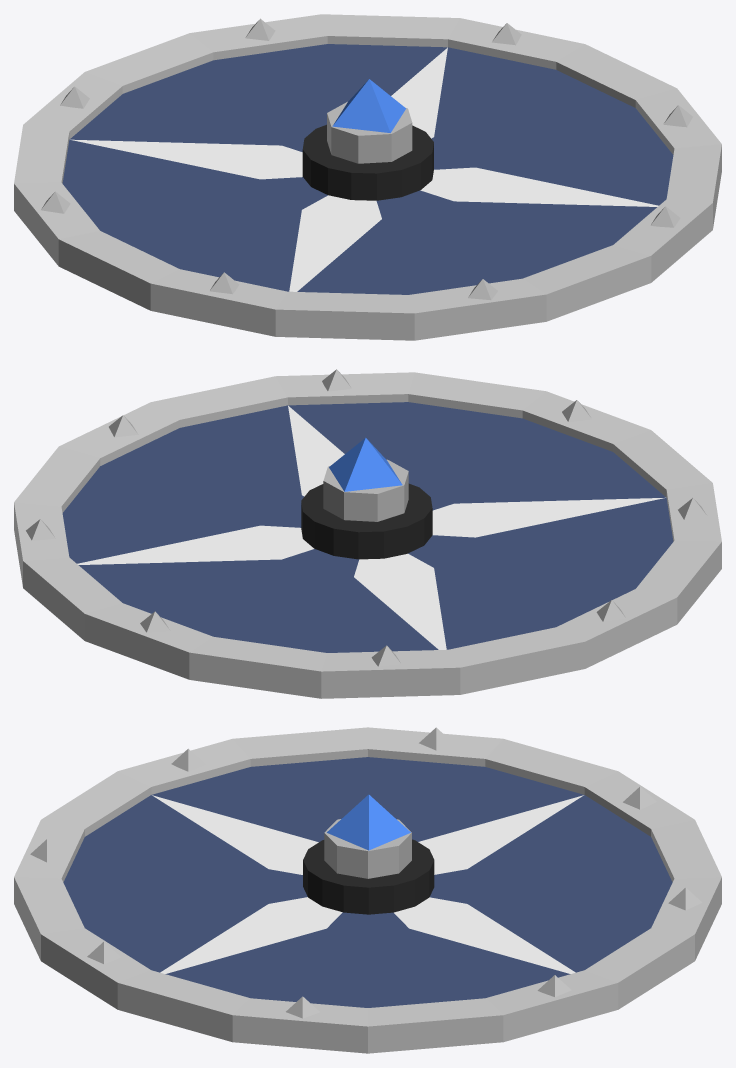
The model's file is Shield_1_d_bl.fbx.
3 views of the same model, one above another, from view 1: azimuth 30°, elevation 25°; view 2: azimuth 150°, elevation 25°; view 3: azimuth 270°, elevation 25° (orthographic).
Visible parts, largest first — view 1: Circle.269, Circle.270, Circle.271, Circle.267, Circle.268, Cone.286; view 2: Circle.269, Circle.270, Circle.271, Circle.267, Circle.268, Cone.286; view 3: Circle.269, Circle.270, Circle.271, Circle.267, Circle.268, Cone.286.
Boxes of the visible parts, bbox=[...] form: Circle.269: bbox=[62, 44, 673, 294]; Circle.270: bbox=[14, 14, 721, 340]; Circle.271: bbox=[70, 47, 658, 291]; Circle.267: bbox=[302, 124, 433, 200]; Circle.268: bbox=[327, 101, 412, 163]; Cone.286: bbox=[332, 79, 405, 132]; Circle.269: bbox=[62, 402, 673, 652]; Circle.270: bbox=[14, 372, 721, 698]; Circle.271: bbox=[77, 405, 665, 649]; Circle.267: bbox=[301, 483, 432, 559]; Circle.268: bbox=[323, 459, 408, 521]; Cone.286: bbox=[329, 437, 402, 491]; Circle.269: bbox=[63, 757, 672, 1007]; Circle.270: bbox=[14, 727, 721, 1053]; Circle.271: bbox=[152, 795, 583, 973]; Circle.267: bbox=[303, 839, 434, 914]; Circle.268: bbox=[324, 819, 411, 878]; Cone.286: bbox=[327, 794, 410, 850].
Size of the model in its own units: 80.85 by 24.85 by 80.85.
